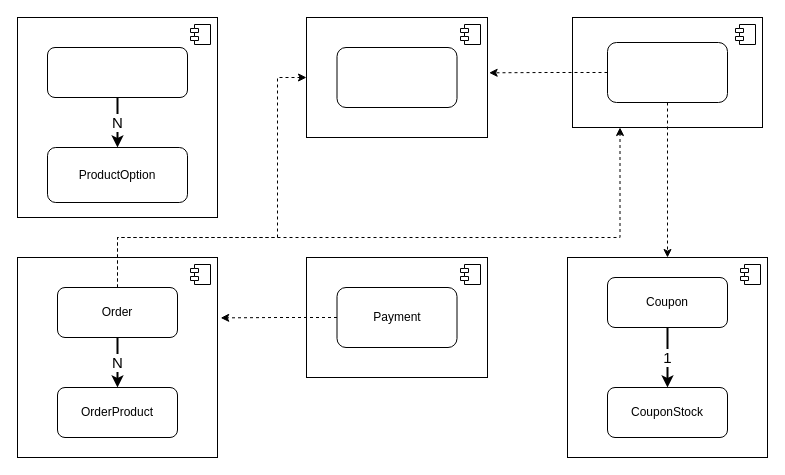
Some shapes in this 785 by 475 pixel diagram are drawn without their labels. Here are the shapes that lost their labels. From the top down, the centre of each, then its label:
pixel 117 72: P roduct
pixel 396 77: User
pixel 667 72: UserCoupon
